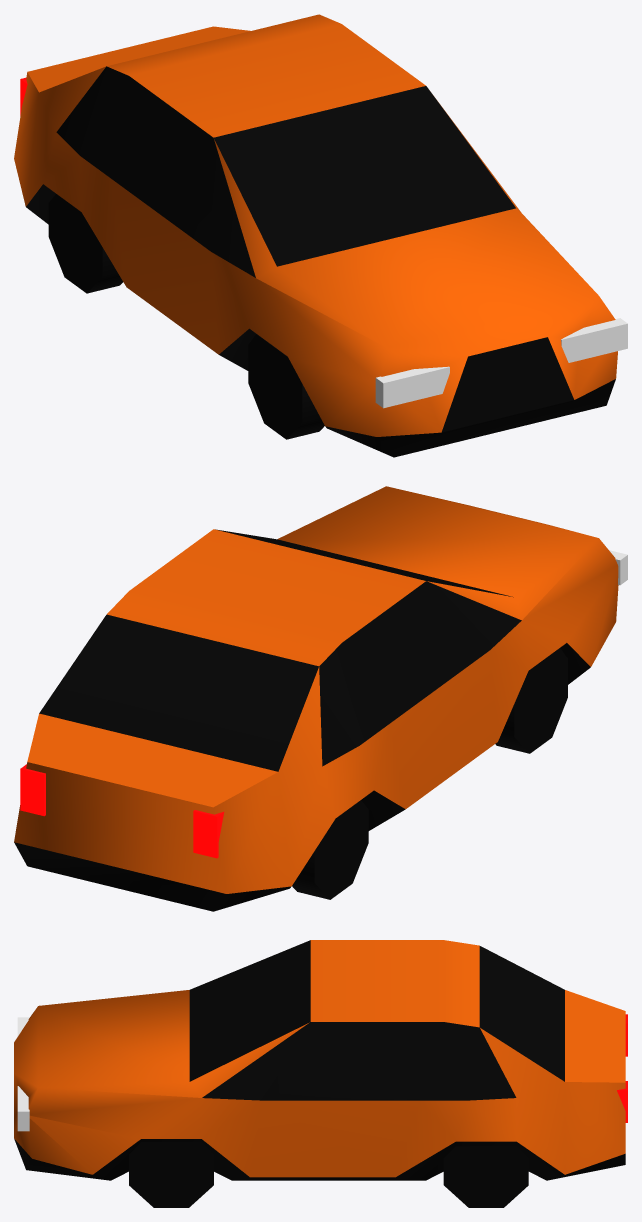
The model's file is car.fbx.
The picture shows the model from 3 angles, top to bottom: view 1: azimuth 30°, elevation 25°; view 2: azimuth 150°, elevation 25°; view 3: azimuth 270°, elevation 25°; orthographic projection. The views are drawn at different scales.
Parts seen in each view (by area): view 1: Body001, Wheel005, Wheel006, Lamp FL, Lamp FR; view 2: Body001, Wheel005, Wheel006, Lamp FL001, Lamp FR001; view 3: Body001, Wheel008, Wheel007, Lamp FR.
Part boxes in pixels (x1=…): Body001: x1=14, y1=14, x2=617, y2=457; Wheel005: x1=248, y1=334, x2=324, y2=439; Wheel006: x1=48, y1=194, x2=122, y2=293; Lamp FL: x1=375, y1=366, x2=449, y2=408; Lamp FR: x1=561, y1=318, x2=627, y2=362; Body001: x1=14, y1=486, x2=618, y2=911; Wheel005: x1=495, y1=648, x2=567, y2=753; Wheel006: x1=292, y1=800, x2=368, y2=899; Lamp FL001: x1=193, y1=810, x2=224, y2=858; Lamp FR001: x1=20, y1=764, x2=45, y2=816; Body001: x1=14, y1=940, x2=625, y2=1180; Wheel008: x1=129, y1=1142, x2=213, y2=1207; Wheel007: x1=443, y1=1146, x2=528, y2=1207; Lamp FR: x1=17, y1=1086, x2=29, y2=1131.
Size of the model in its own units: 2.2 by 1.6 by 5.07.
